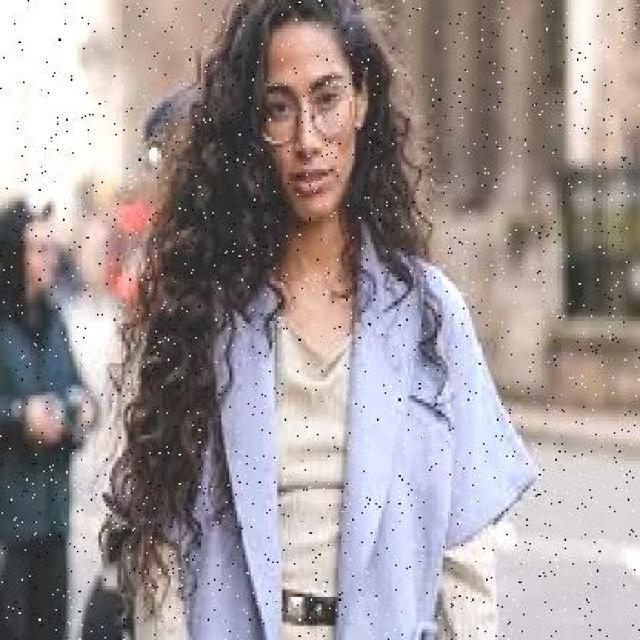glasses: (251, 79, 357, 152)
